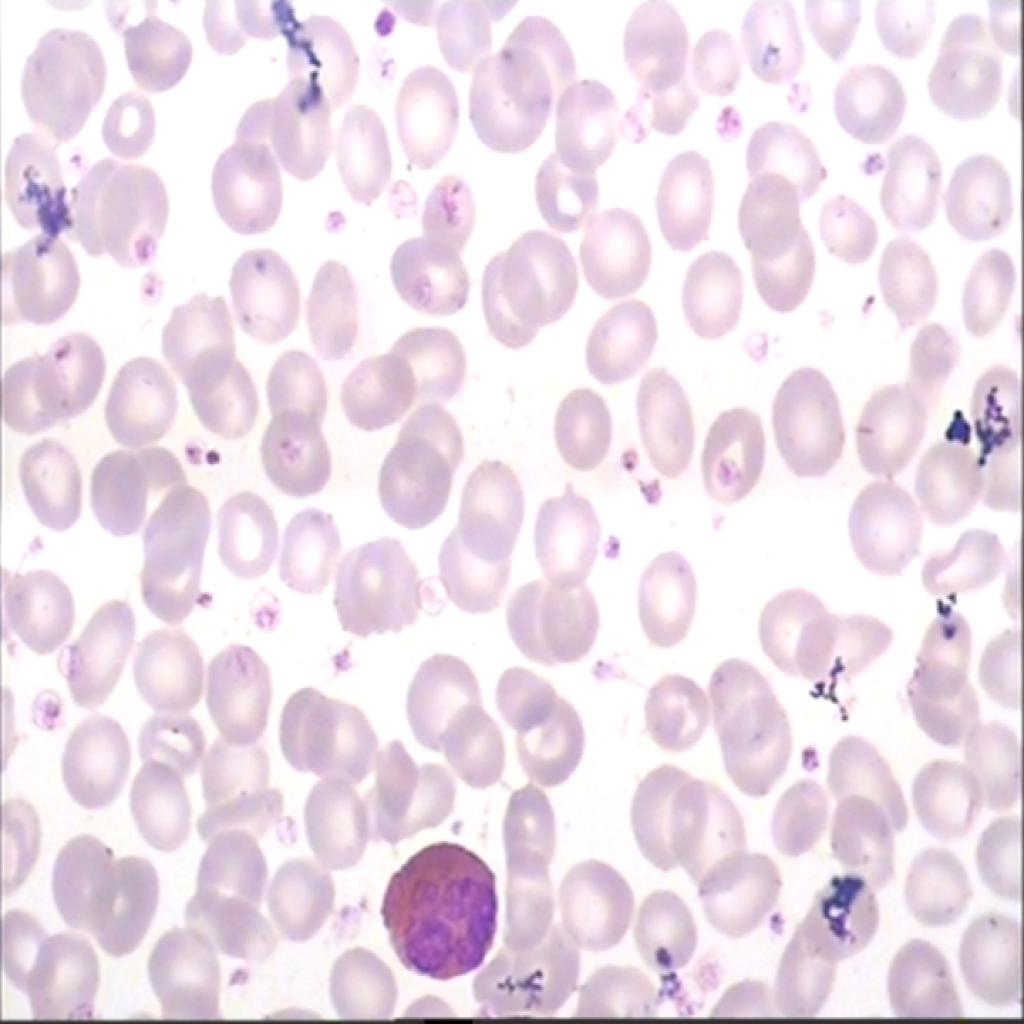Eosinofil: (371, 823, 511, 983)
Platelet: (297, 194, 353, 244), (706, 85, 752, 144), (358, 0, 408, 53), (796, 731, 840, 791), (318, 649, 360, 707), (640, 928, 681, 981), (26, 684, 66, 738), (854, 144, 892, 196), (710, 446, 742, 502), (134, 268, 169, 313), (122, 226, 158, 265), (758, 898, 784, 948), (610, 430, 637, 478), (600, 523, 623, 576), (640, 470, 670, 508), (248, 588, 272, 634), (196, 586, 216, 620)
